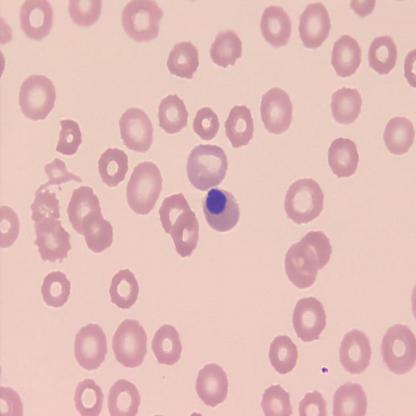NRC: (201, 186, 241, 234)
